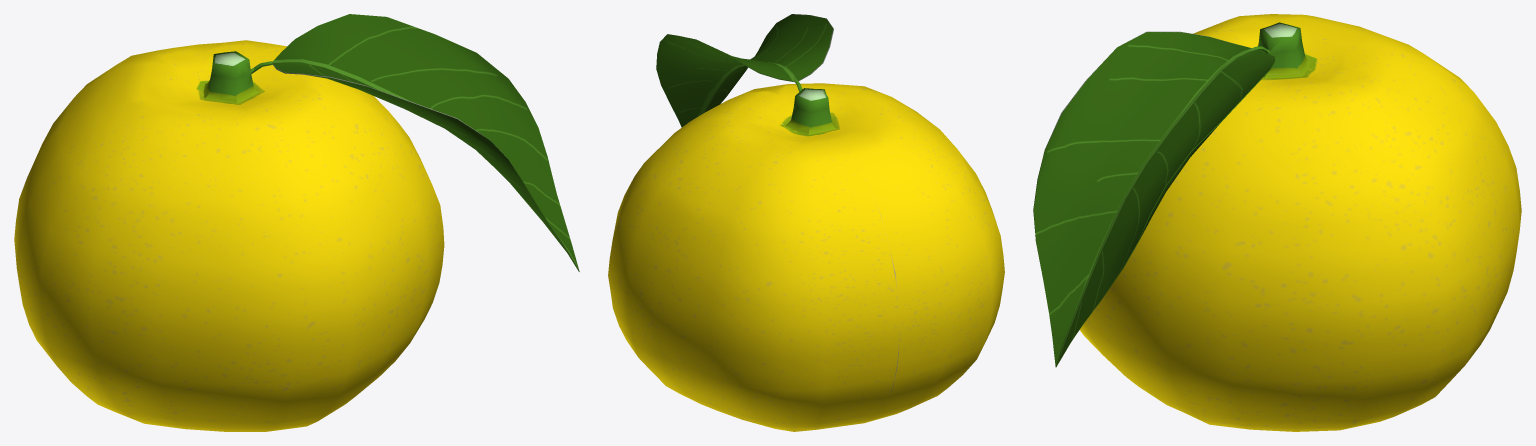
The model's file is YUZU_RADER.fbx.
The picture shows the model from 3 angles, left to right: view 1: azimuth 30°, elevation 25°; view 2: azimuth 150°, elevation 25°; view 3: azimuth 270°, elevation 25°; orthographic projection. The views are drawn at different scales.
Visible parts, largest first — view 1: YUZU_RADER_0513:YUZU_RADER_UV_0509:YUZU_RADER_0509:pPlane2; view 2: YUZU_RADER_0513:YUZU_RADER_UV_0509:YUZU_RADER_0509:pPlane2; view 3: YUZU_RADER_0513:YUZU_RADER_UV_0509:YUZU_RADER_0509:pPlane2.
Part boxes in pixels (x1,y1,x2,y2): YUZU_RADER_0513:YUZU_RADER_UV_0509:YUZU_RADER_0509:pPlane2: [14, 14, 579, 431]; YUZU_RADER_0513:YUZU_RADER_UV_0509:YUZU_RADER_0509:pPlane2: [608, 14, 1004, 431]; YUZU_RADER_0513:YUZU_RADER_UV_0509:YUZU_RADER_0509:pPlane2: [1033, 14, 1521, 431].
Size of the model in its own units: 63.93 by 50 by 57.46.
